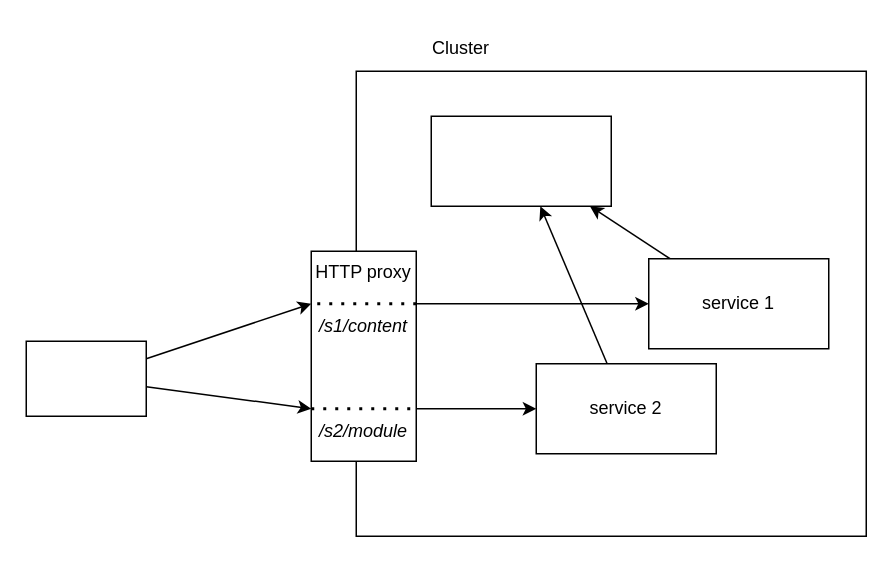
This 893x563 diagram has some shape labels left out. Each missing label, with the centre of its shape:
Authorisation server: pixel 520 160
client: pixel 85 378
